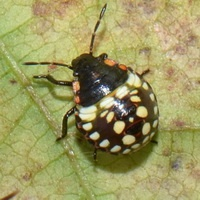insect: (23, 4, 158, 159)
